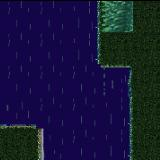Interaction: (120, 75, 146, 160), (89, 0, 112, 75), (112, 56, 146, 76)
Slow: (0, 68, 127, 124), (0, 0, 96, 68), (44, 124, 130, 160), (100, 0, 134, 32)
